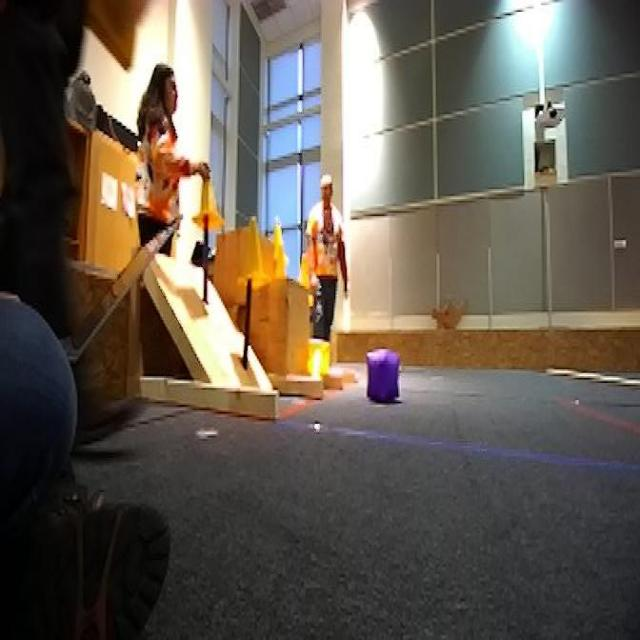frc_cone: (84, 0, 145, 73), (237, 214, 269, 293), (193, 163, 227, 235), (308, 339, 332, 383), (272, 218, 290, 267), (272, 242, 288, 279)
frc_cube: (366, 345, 402, 407)
